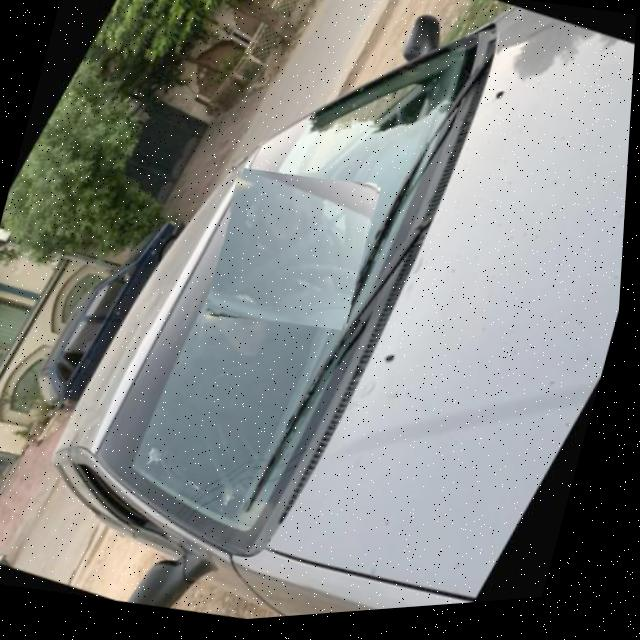seatbelt: (204, 160, 387, 345)
